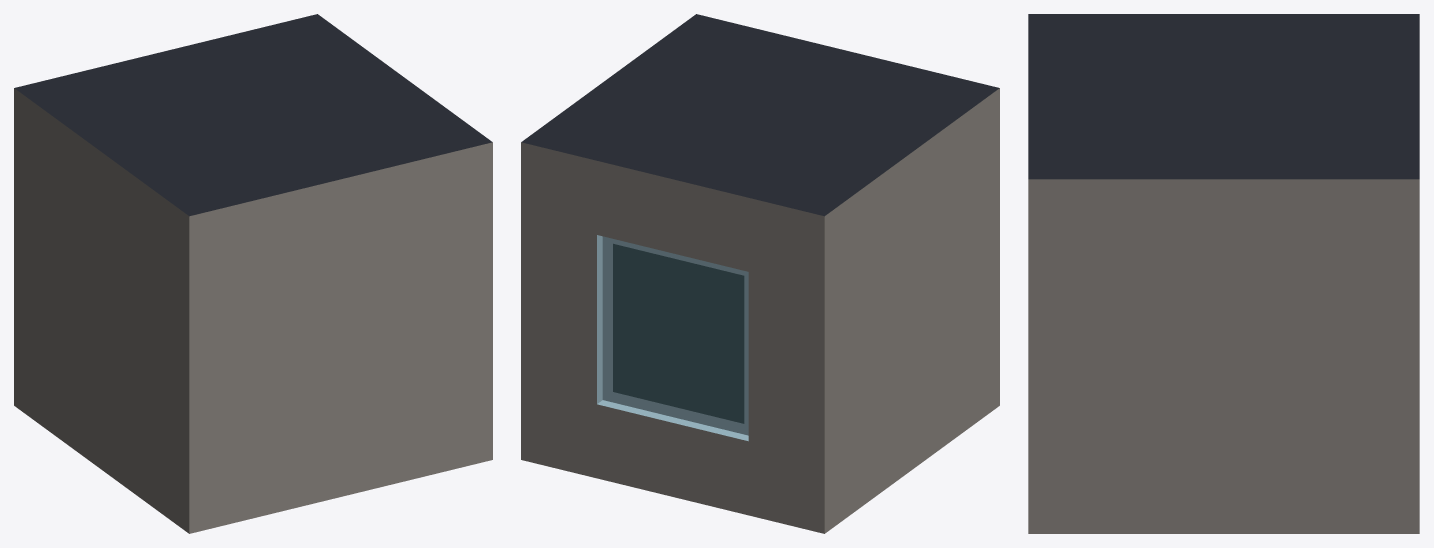
File: flat-box-window_02.fbx
3 views of the same model, side by side, from view 1: azimuth 30°, elevation 25°; view 2: azimuth 150°, elevation 25°; view 3: azimuth 270°, elevation 25° (orthographic). The views are drawn at different scales.
Parts seen in each view (by area): view 1: flat-box-window_02; view 2: flat-box-window_02; view 3: flat-box-window_02.
Boxes of the visible parts, x1,y1,x2,y2 form: flat-box-window_02: (14,14,492,533); flat-box-window_02: (521,14,999,533); flat-box-window_02: (1028,14,1419,533).
Bounding box in the file's own units: 300 × 300 × 300.
